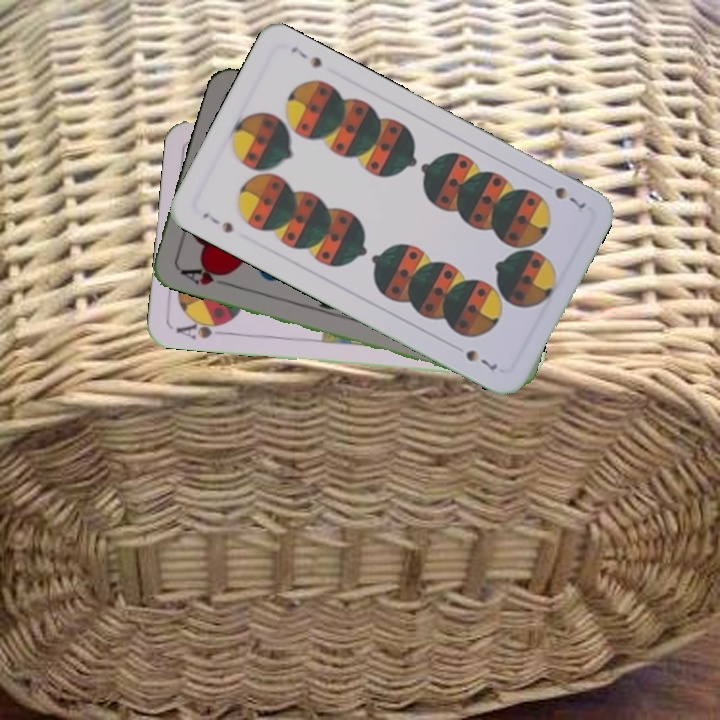HA: (176, 261, 233, 289)
S7: (550, 182, 589, 212), (198, 208, 236, 236)
SA: (172, 315, 231, 342)
